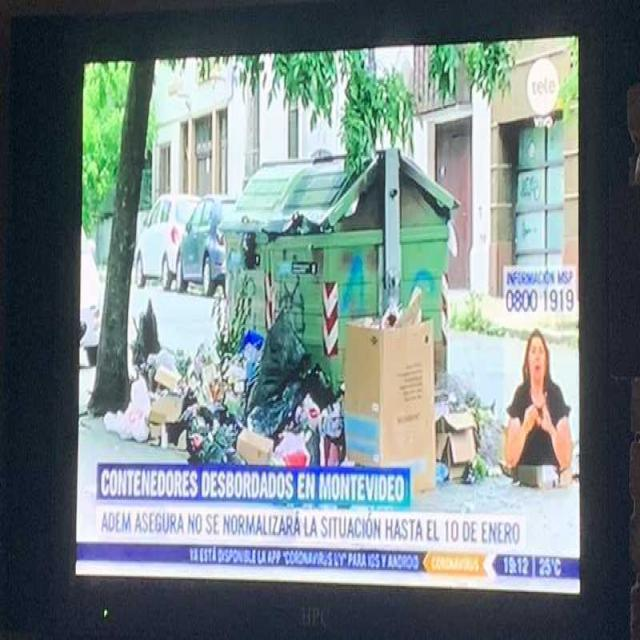garbage: (126, 289, 487, 471)
